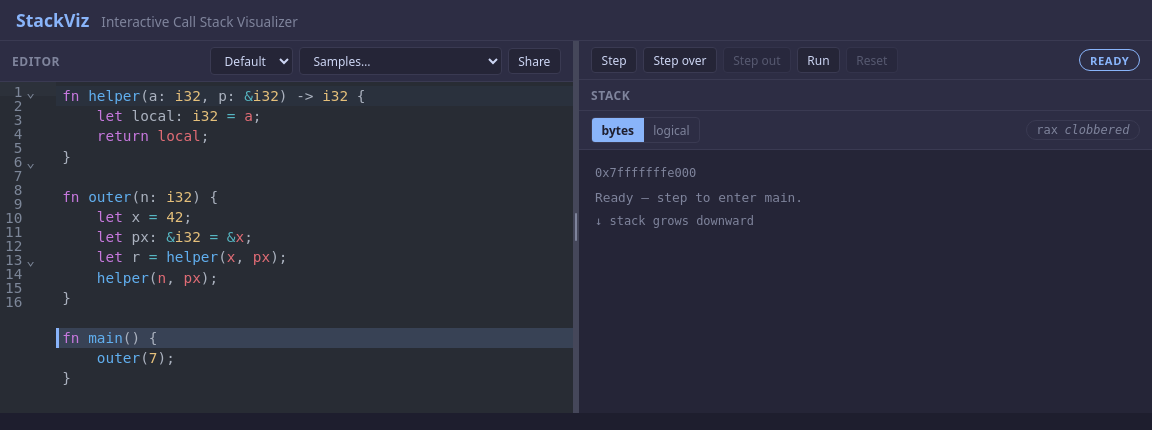
it: App shell › steps into main and updates the status badge
What coordinates should you click on to do the following:
click the button "Step"
I would click on:
 (614, 60)
Its box is [591, 47, 637, 73].
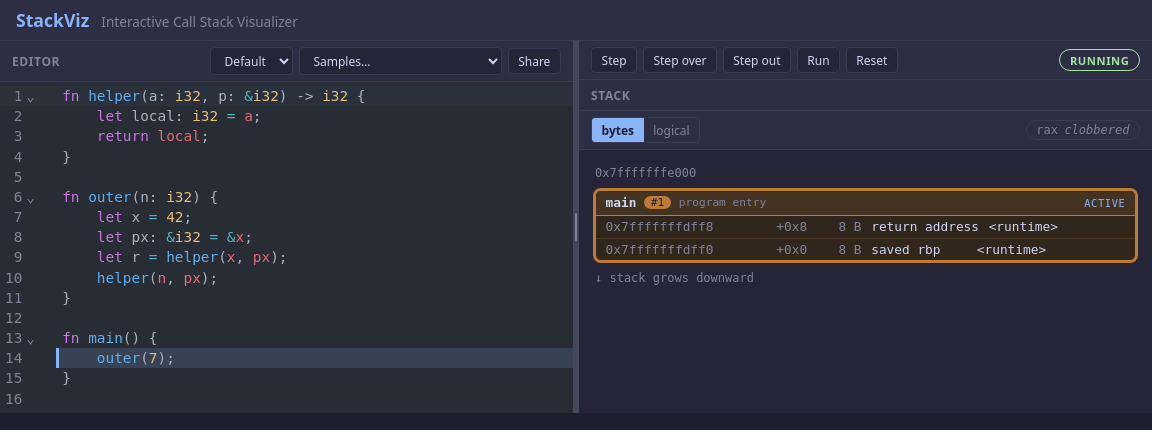
Check: the element named "main frame" is shown, box [595, 190, 1136, 261]
Check: the message named "Execution status" reads "running", box [1070, 53, 1129, 68]
Check: the button "Reset" is enabled, box [846, 47, 898, 73]
